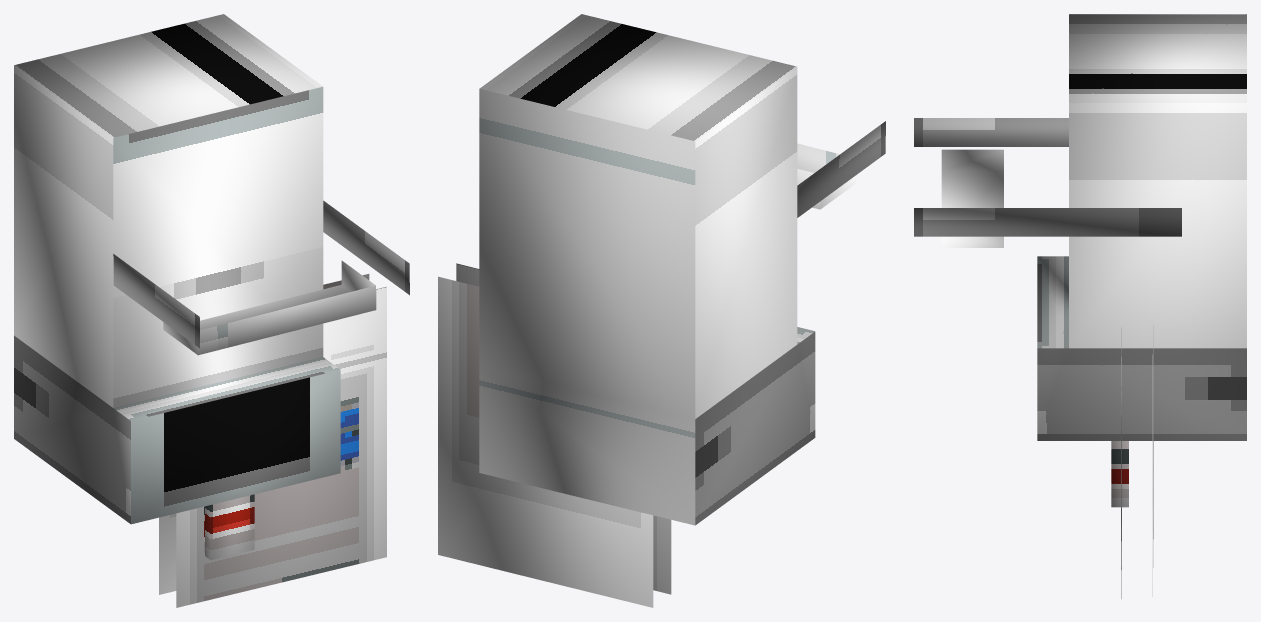
3 views of the same model, side by side, from view 1: azimuth 30°, elevation 25°; view 2: azimuth 150°, elevation 25°; view 3: azimuth 270°, elevation 25° (orthographic). The views are drawn at different scales.
Parts seen in each view (by area): view 1: 3528IMEL01_29; view 2: 3528IMEL01_29; view 3: 3528IMEL01_29.
Part boxes in pixels (<box>): 3528IMEL01_29: <box>14,14,409,607</box>; 3528IMEL01_29: <box>438,14,885,607</box>; 3528IMEL01_29: <box>914,14,1246,598</box>.
Size of the model in its own units: 1.3 by 2.11 by 1.38.
Materials: 3 (3 with a texture image).
